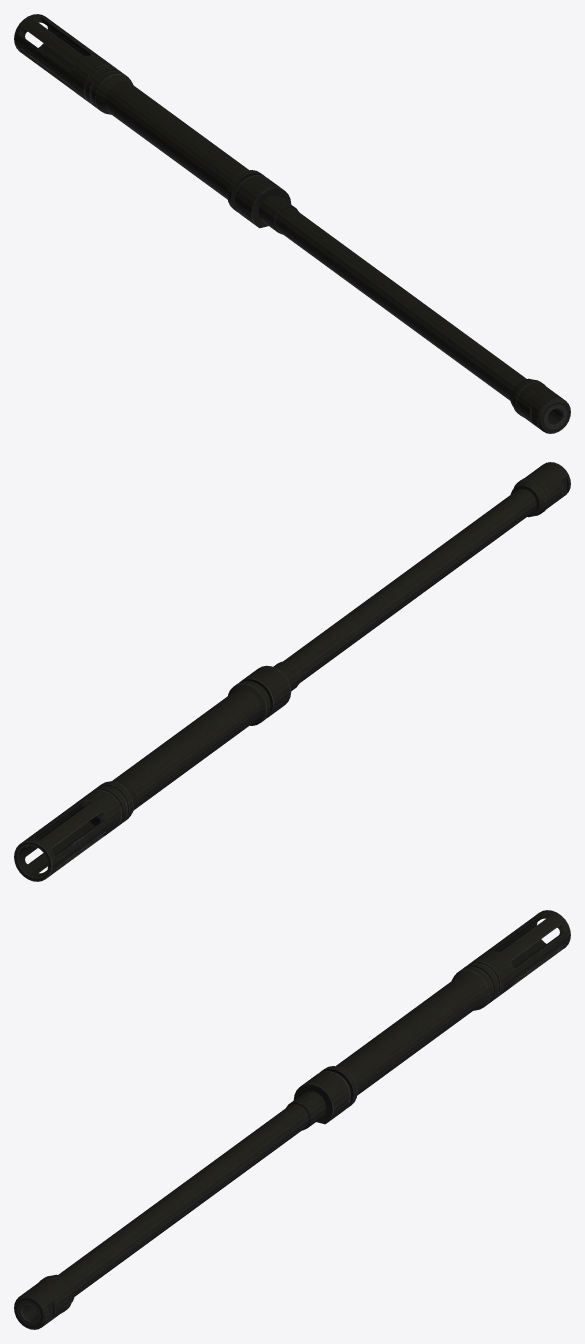
The picture shows the model from 3 angles, top to bottom: view 1: azimuth 30°, elevation 25°; view 2: azimuth 150°, elevation 25°; view 3: azimuth 330°, elevation 25°; orthographic projection.
Visible parts, largest first — view 1: TW_5cc701d7e4a94900100ac4e7_PZ_Import; view 2: TW_5cc701d7e4a94900100ac4e7_PZ_Import; view 3: TW_5cc701d7e4a94900100ac4e7_PZ_Import.
Boxes of the visible parts, x1,y1,x2,y2 form: TW_5cc701d7e4a94900100ac4e7_PZ_Import: [14, 14, 570, 433]; TW_5cc701d7e4a94900100ac4e7_PZ_Import: [14, 462, 570, 881]; TW_5cc701d7e4a94900100ac4e7_PZ_Import: [14, 910, 570, 1329].
Bounding box in the file's own units: 0.0119 × 0.2742 × 0.0119.
1 material, 1 textured.
